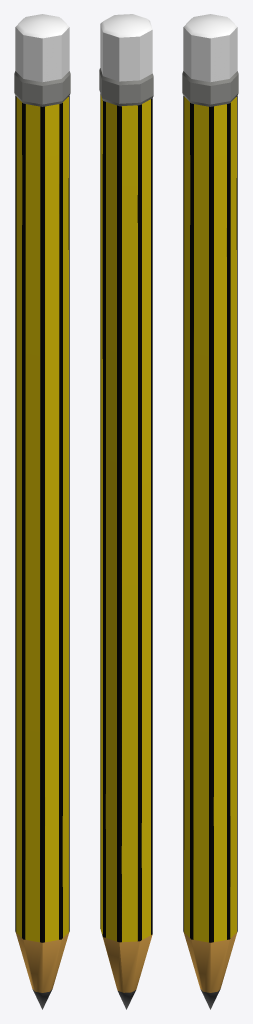
Rendered from Pencil 1.fbx.
The picture shows the model from 3 angles, left to right: view 1: azimuth 90°, elevation 25°; view 2: azimuth 210°, elevation 25°; view 3: azimuth 270°, elevation 25°; orthographic projection.
Parts seen in each view (by area): view 1: pCylinder1; view 2: pCylinder1; view 3: pCylinder1.
Part boxes in pixels (x1=…): pCylinder1: x1=14, y1=14, x2=70, y2=1009; pCylinder1: x1=99, y1=14, x2=153, y2=1009; pCylinder1: x1=182, y1=14, x2=238, y2=1009.
Bounding box in the file's own units: 1.04 × 20.11 × 1.04.
Materials: 1 (1 with a texture image).
